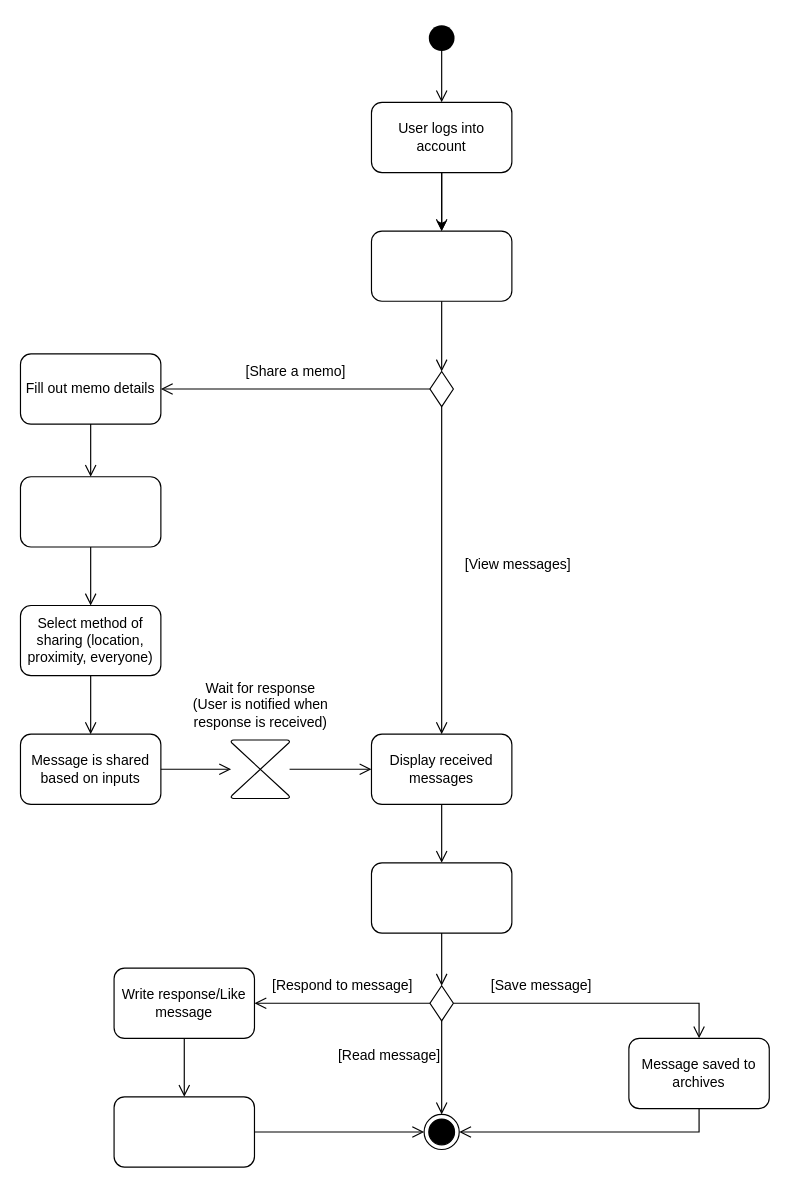
The diagram is 790 pixels wide and 1188 high, and some of its shapes have lost their labels. The centre of each missing label's shape, as x and y in pixels:
Display dashboard: (x=441, y=265)
Response/reaction sent back to responder: (x=183, y=1131)
Select type of response desired: (x=90, y=511)
View specific message: (x=441, y=897)
